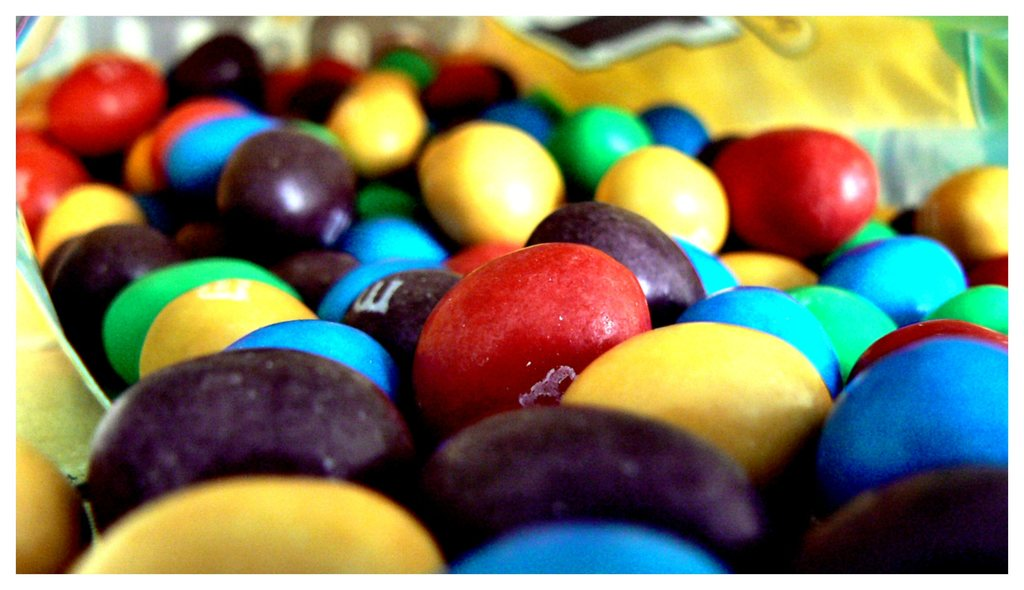Ball: (11, 31, 1009, 572)
